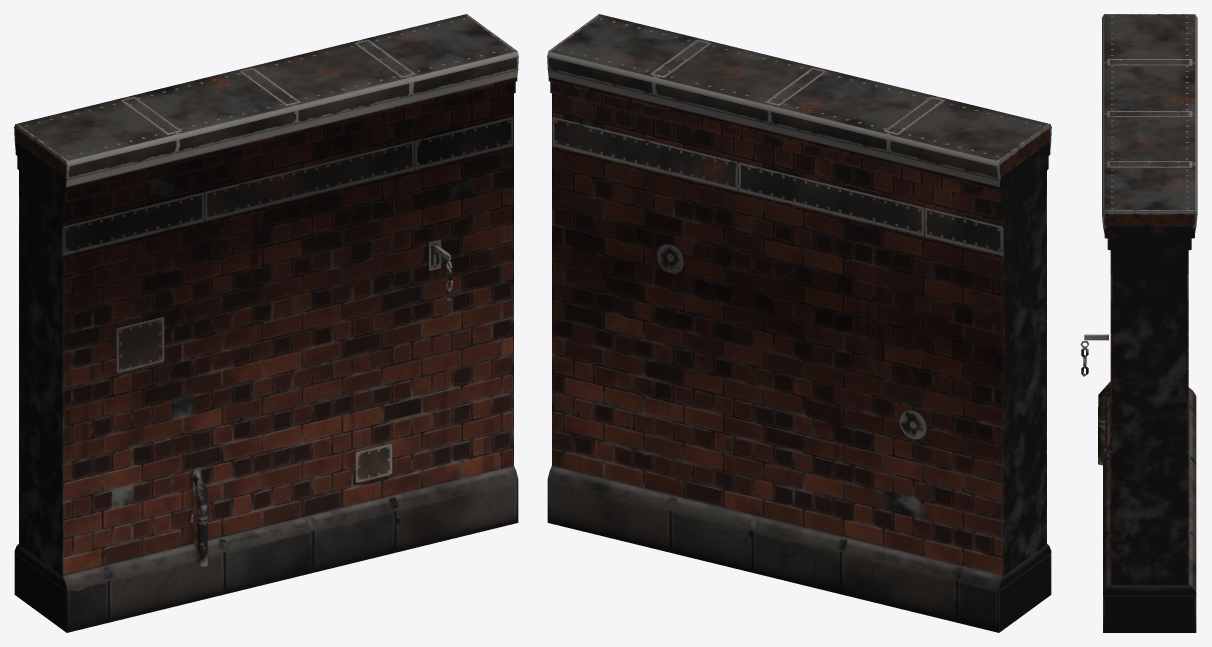
The model's file is foundry_wall_c.glb.
The picture shows the model from 3 angles, left to right: view 1: azimuth 30°, elevation 25°; view 2: azimuth 150°, elevation 25°; view 3: azimuth 270°, elevation 25°; orthographic projection. The views are drawn at different scales.
Parts seen in each view (by area): view 1: foundry_wall_c; view 2: foundry_wall_c; view 3: foundry_wall_c.
Part boxes in pixels (x1=…): foundry_wall_c: x1=14, y1=14, x2=518, y2=632; foundry_wall_c: x1=547, y1=14, x2=1051, y2=632; foundry_wall_c: x1=1080, y1=14, x2=1197, y2=632.
Bounding box in the file's own units: 4 × 3.99 × 1.
Materials: 1 (1 with a texture image).
